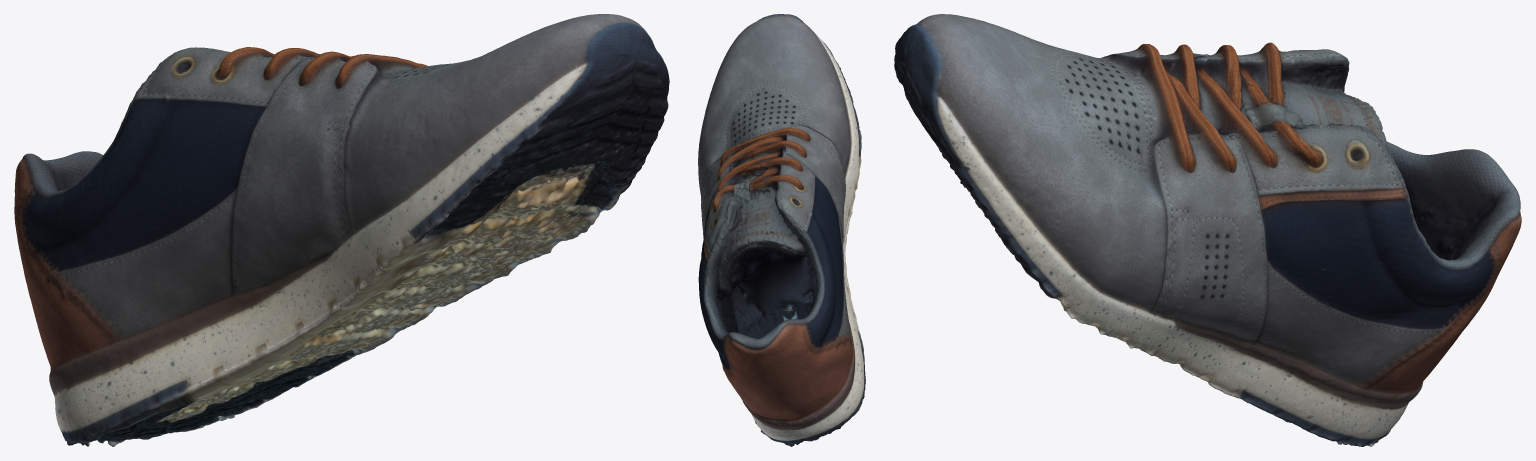
Rendered from free_shoe_model.glb.
3 views of the same model, side by side, from view 1: azimuth 30°, elevation 25°; view 2: azimuth 150°, elevation 25°; view 3: azimuth 270°, elevation 25° (orthographic). The views are drawn at different scales.
Visible parts, largest first — view 1: Object_2, Object_3, Object_4, Object_5; view 2: Object_2, Object_3, Object_4, Object_5; view 3: Object_2, Object_3, Object_4, Object_5.
Part boxes in pixels (bbox=[...]): Object_2: bbox=[14, 20, 664, 442]; Object_3: bbox=[14, 17, 654, 444]; Object_4: bbox=[21, 14, 669, 446]; Object_5: bbox=[15, 58, 449, 241]; Object_2: bbox=[698, 25, 865, 445]; Object_3: bbox=[700, 17, 861, 438]; Object_4: bbox=[698, 14, 865, 446]; Object_5: bbox=[704, 32, 830, 389]; Object_2: bbox=[930, 42, 1521, 446]; Object_3: bbox=[894, 14, 1505, 446]; Object_4: bbox=[894, 14, 1477, 446]; Object_5: bbox=[975, 44, 1480, 331].
Size of the model in its own units: 6.14 by 7.54 by 8.33.
1 material, 1 textured.
